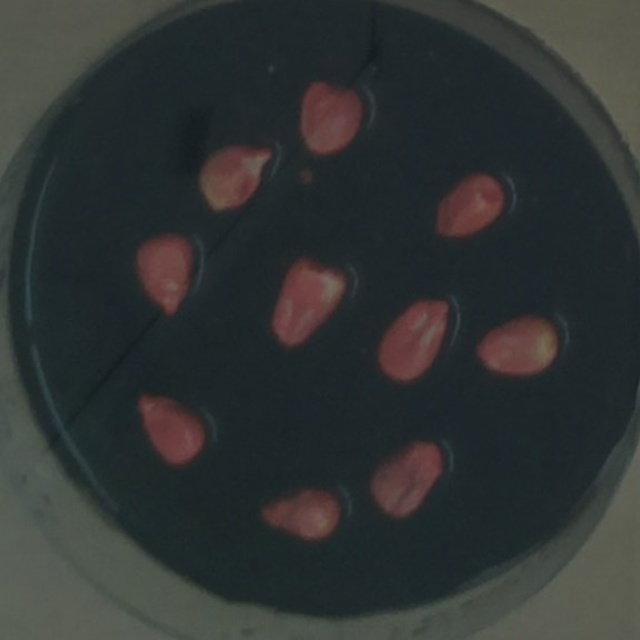Zea mays: (262, 245, 353, 353), (369, 292, 458, 388), (363, 433, 452, 525), (130, 384, 214, 474), (189, 135, 278, 217), (126, 225, 202, 321), (470, 307, 565, 381), (294, 72, 371, 162), (426, 164, 511, 244), (252, 475, 346, 545)
